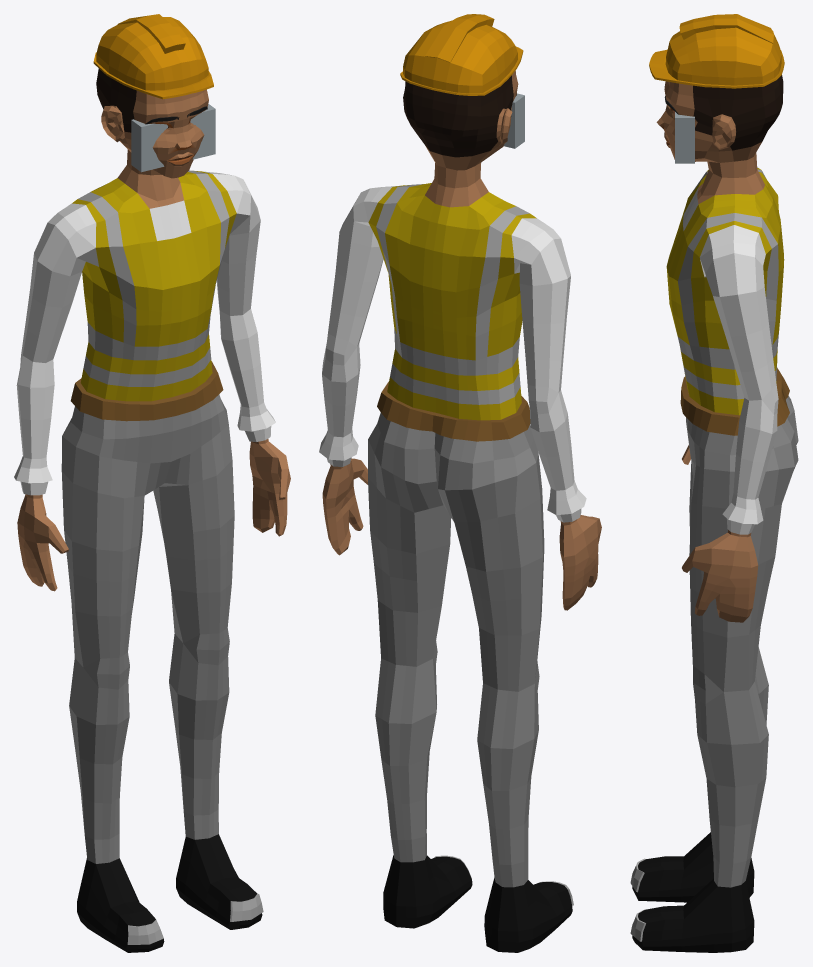
The model's file is Engineer_Stand_Mask.fbx.
The picture shows the model from 3 angles, left to right: view 1: azimuth 30°, elevation 25°; view 2: azimuth 150°, elevation 25°; view 3: azimuth 270°, elevation 25°; orthographic projection. The views are drawn at different scales.
Parts seen in each view (by area): view 1: Engineer_Stand_Mask; view 2: Engineer_Stand_Mask; view 3: Engineer_Stand_Mask.
Part boxes in pixels (x1,y1,x2,y2): Engineer_Stand_Mask: [14, 14, 290, 952]; Engineer_Stand_Mask: [319, 14, 601, 952]; Engineer_Stand_Mask: [630, 14, 798, 952].
Size of the model in its own units: 0.3284 by 1.08 by 0.1831.
